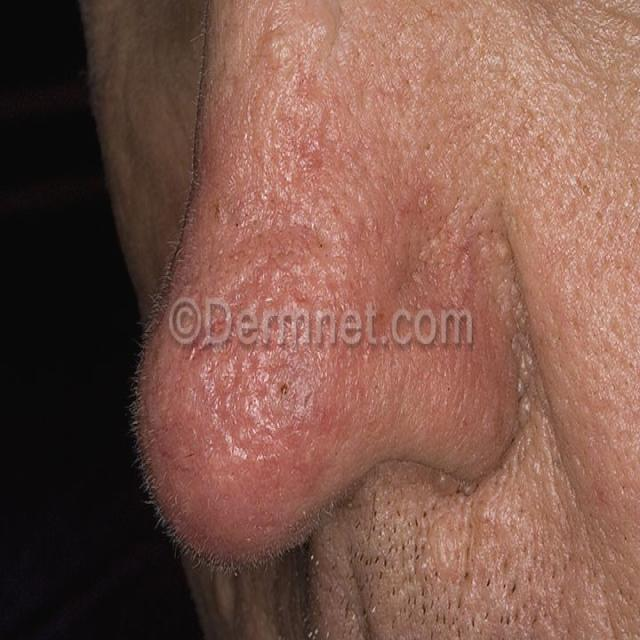Rosacea: (140, 179, 472, 509)
